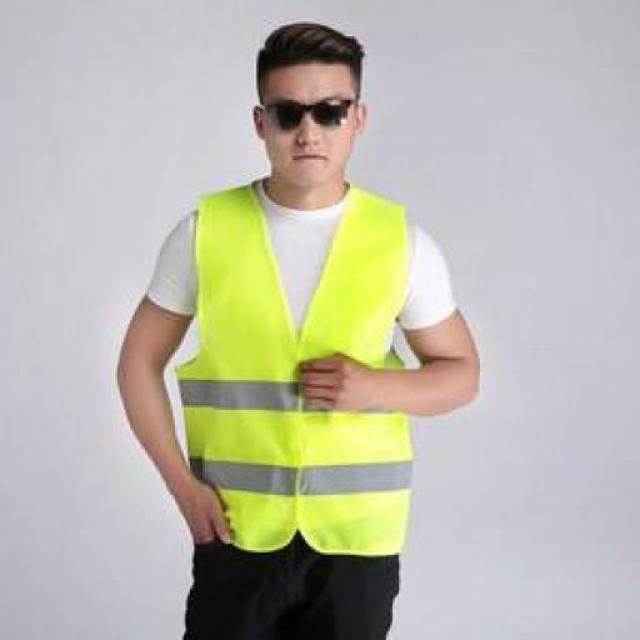vest: (185, 183, 407, 550)
